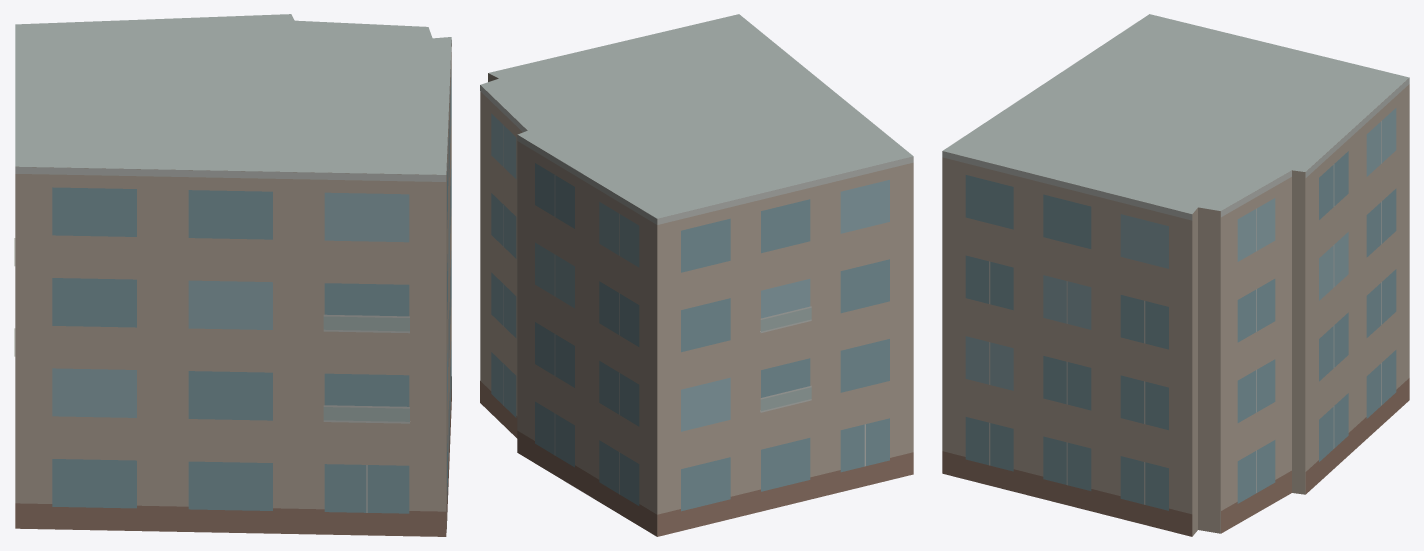
Rendered from survey-upis-32780878.glb.
3 renders of one model, left to right at view 1: azimuth 30°, elevation 25°; view 2: azimuth 150°, elevation 25°; view 3: azimuth 270°, elevation 25°, orthographic. The views are drawn at different scales.
Parts seen in each view (by area): view 1: survey-upis-32780878.tmp; view 2: survey-upis-32780878.tmp; view 3: survey-upis-32780878.tmp.
Part boxes in pixels (box(x1,y1,x2,y2)): survey-upis-32780878.tmp: box(14, 14, 451, 536); survey-upis-32780878.tmp: box(480, 14, 913, 536); survey-upis-32780878.tmp: box(942, 14, 1409, 536).
Bounding box in the file's own units: 16.52 × 12.4 × 16.29.
